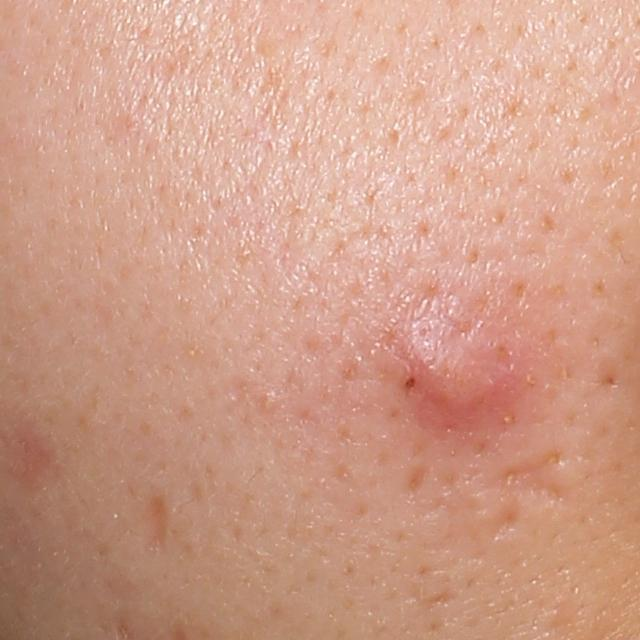atrophic_scar: (501, 446, 572, 501), (145, 488, 176, 553), (483, 502, 530, 543), (404, 460, 433, 505)
comedo: (257, 393, 281, 414)
papule: (395, 321, 517, 426)
